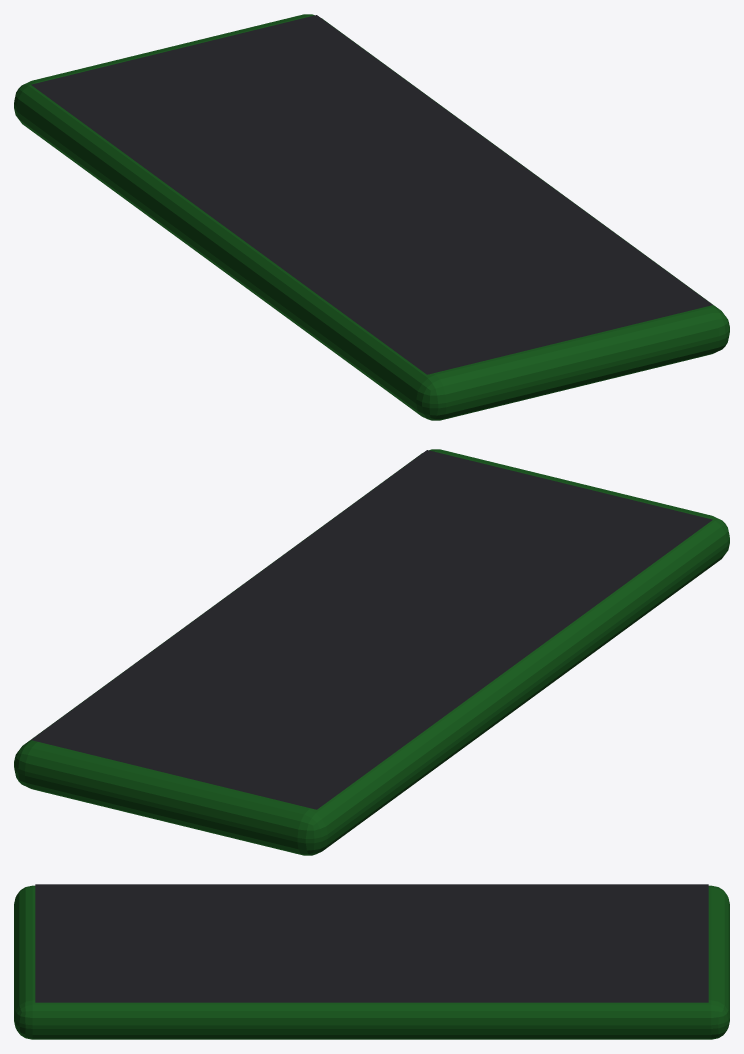
Rendered from Phone_846.glb.
3 renders of one model, top to bottom at view 1: azimuth 30°, elevation 25°; view 2: azimuth 150°, elevation 25°; view 3: azimuth 270°, elevation 25°, orthographic. The views are drawn at different scales.
Parts seen in each view (by area): view 1: Phone_Screen, Phone_Body; view 2: Phone_Screen, Phone_Body; view 3: Phone_Screen, Phone_Body.
Part boxes in pixels (x1,y1,x2,y2): Phone_Screen: (31, 15, 712, 374); Phone_Body: (14, 14, 729, 420); Phone_Screen: (31, 450, 712, 809); Phone_Body: (14, 449, 729, 855); Phone_Screen: (35, 884, 708, 1002); Phone_Body: (14, 885, 729, 1039).
Bounding box in the file's own units: 0.0719 × 0.0099 × 0.1689.
